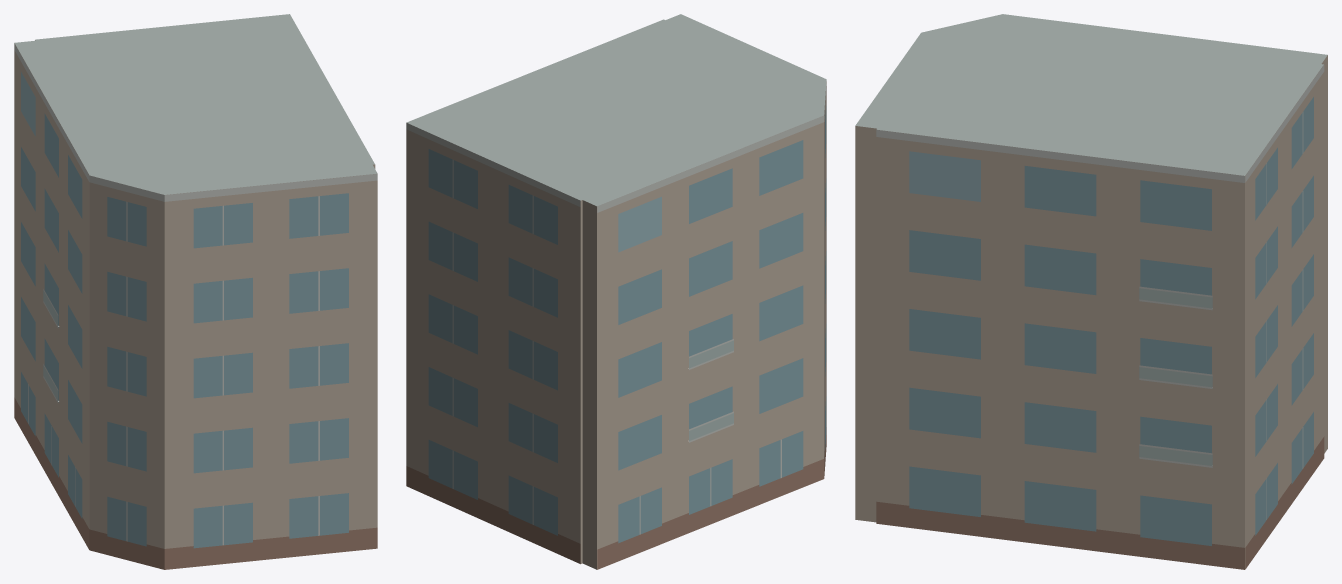
The model's file is survey-upis-32872868.glb.
3 views of the same model, side by side, from view 1: azimuth 30°, elevation 25°; view 2: azimuth 150°, elevation 25°; view 3: azimuth 270°, elevation 25° (orthographic). The views are drawn at different scales.
Visible parts, largest first — view 1: survey-upis-32872868.tmp; view 2: survey-upis-32872868.tmp; view 3: survey-upis-32872868.tmp.
Boxes of the visible parts, x1,y1,x2,y2 form: survey-upis-32872868.tmp: [14, 14, 377, 569]; survey-upis-32872868.tmp: [406, 14, 826, 569]; survey-upis-32872868.tmp: [855, 14, 1327, 569].
Bounding box in the file's own units: 11.73 × 13.3 × 14.47.
